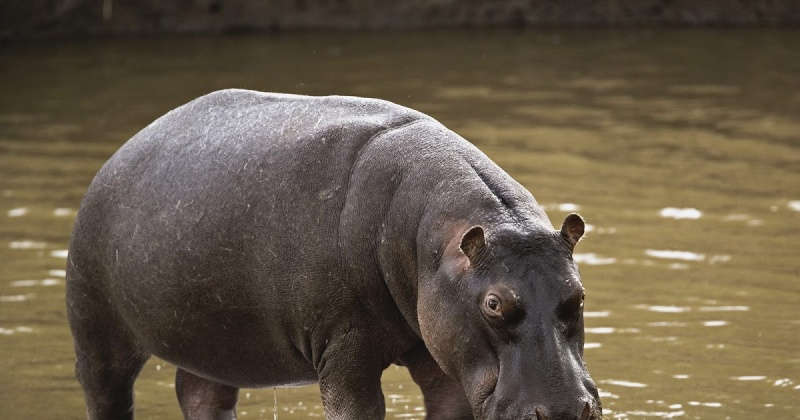hipopotamo: (63, 85, 609, 420)
